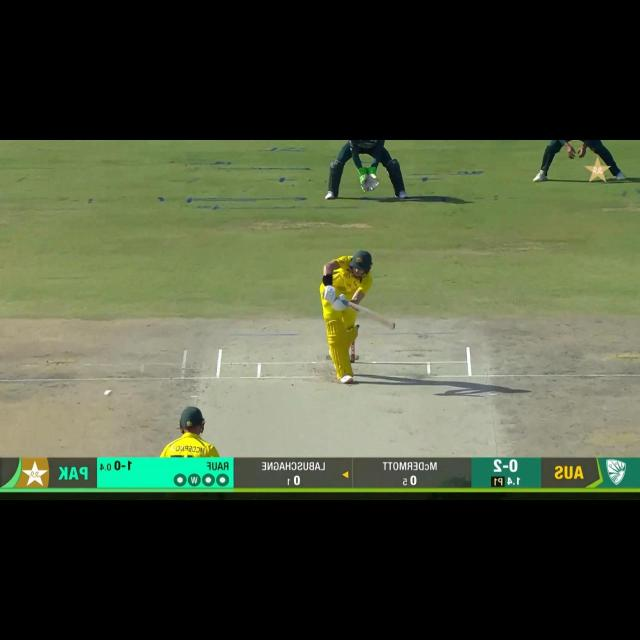bat: (342, 302, 395, 330)
toe: (384, 318, 394, 329)
